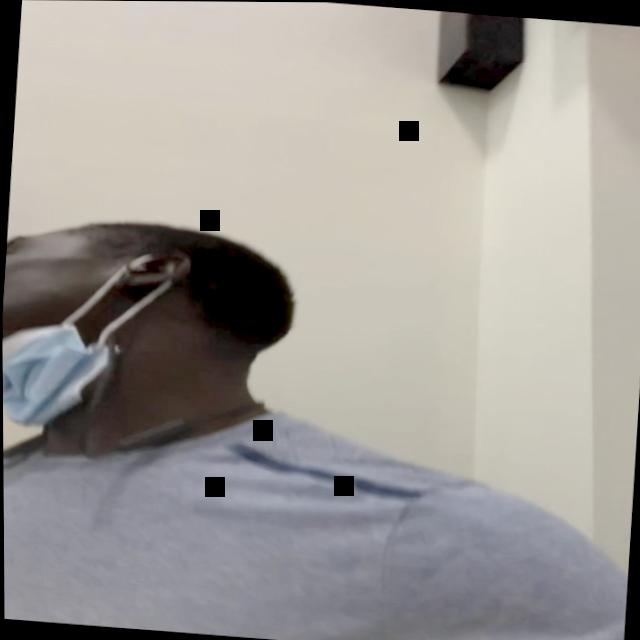NO-Mask: (1, 216, 157, 430)
